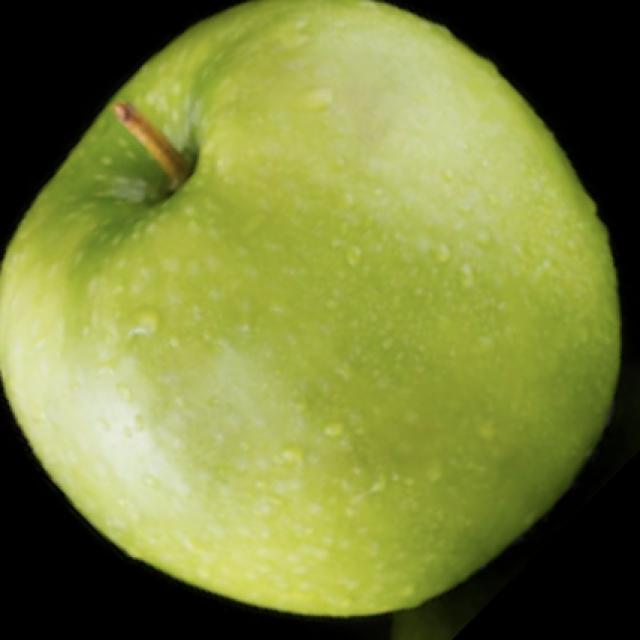Apple: (0, 0, 623, 619)
